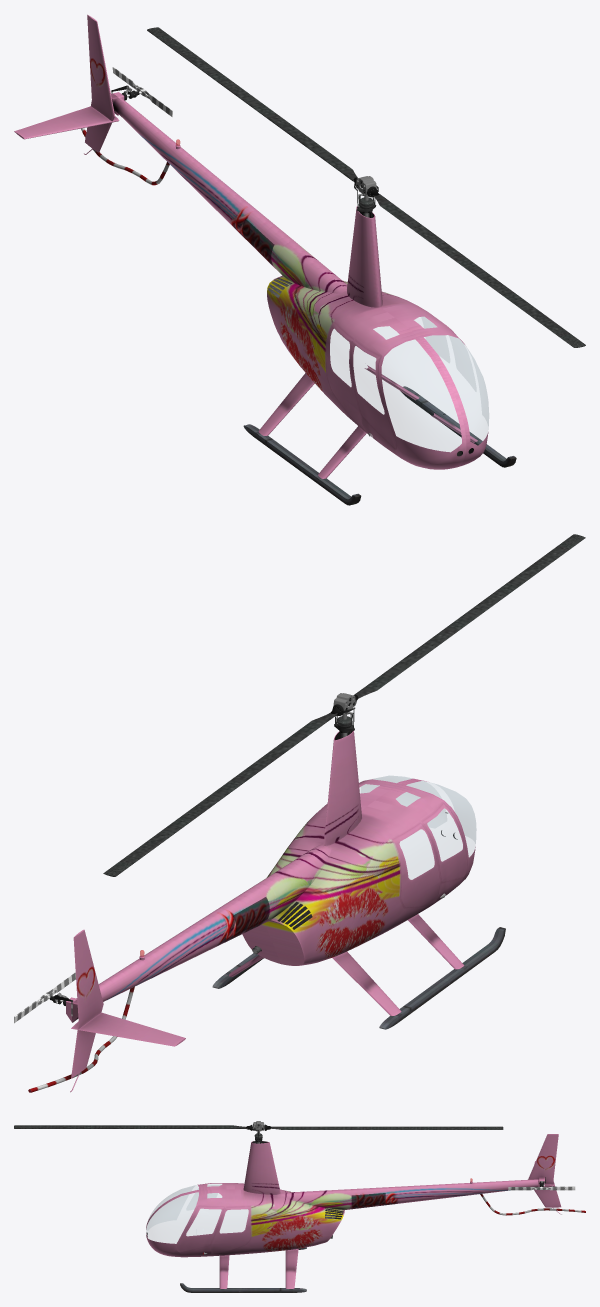
File: xena.gltf
3 renders of one model, top to bottom at view 1: azimuth 30°, elevation 25°; view 2: azimuth 150°, elevation 25°; view 3: azimuth 270°, elevation 25°, orthographic. The views are drawn at different scales.
Parts seen in each view (by area): view 1: Exterior, Spin_0; view 2: Exterior, Spin_0; view 3: Exterior, Spin_0, Spin_1.
Part boxes in pixels (bbox=[...]): Exterior: bbox=[14, 14, 516, 505]; Spin_0: bbox=[147, 27, 585, 347]; Exterior: bbox=[28, 731, 505, 1092]; Spin_0: bbox=[103, 534, 585, 876]; Exterior: bbox=[146, 1134, 585, 1292]; Spin_0: bbox=[14, 1121, 503, 1143]; Spin_1: bbox=[508, 1184, 575, 1190].
Size of the model in its own units: 2.39 by 3.36 by 11.78.
10 materials, 10 textured.
